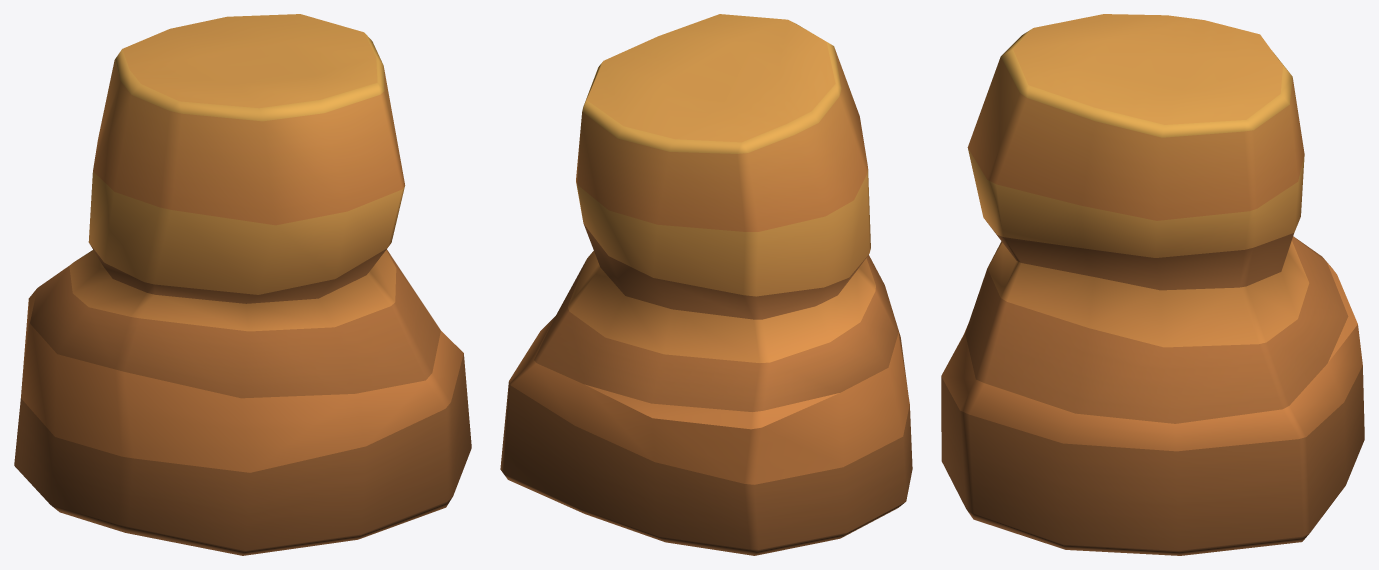
Rendered from rock_formation_light_08.fbx.
3 views of the same model, side by side, from view 1: azimuth 30°, elevation 25°; view 2: azimuth 150°, elevation 25°; view 3: azimuth 270°, elevation 25° (orthographic). The views are drawn at different scales.
Visible parts, largest first — view 1: rock_formation_light_08; view 2: rock_formation_light_08; view 3: rock_formation_light_08.
Boxes of the visible parts, x1=… form: rock_formation_light_08: x1=14, y1=14, x2=471, y2=555; rock_formation_light_08: x1=500, y1=14, x2=912, y2=555; rock_formation_light_08: x1=941, y1=14, x2=1364, y2=555.
Size of the model in its own units: 546 by 565 by 518.
